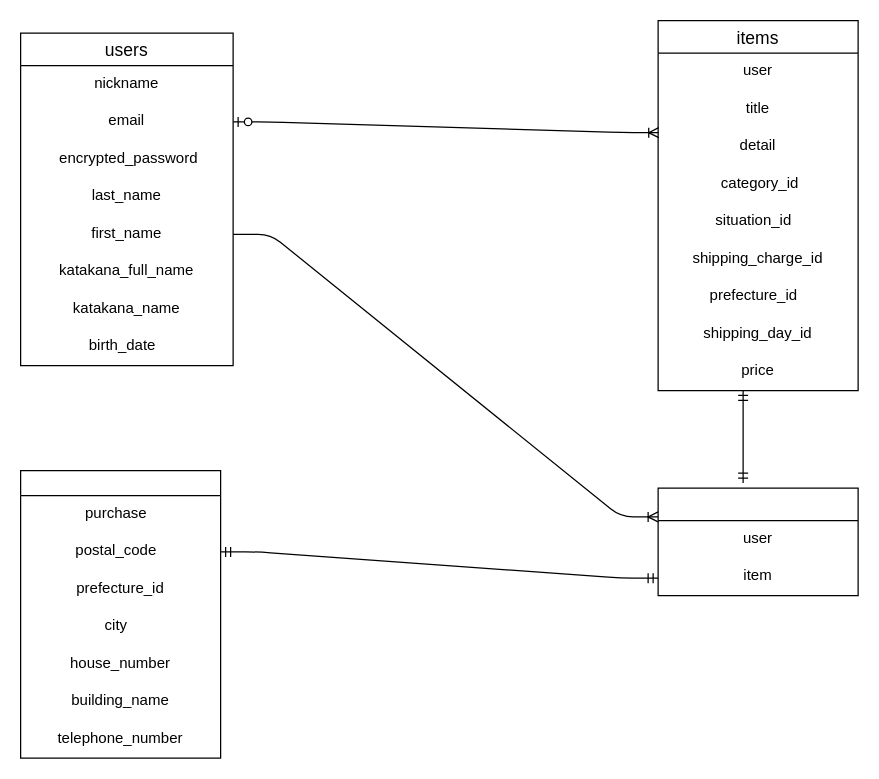
This 879x779 diagram has some shape labels left out. The box of each missing label's shape, as (x1, y1, x2, y2) in pixels:
orders: (19, 469, 221, 758)
purchases: (657, 487, 858, 596)
